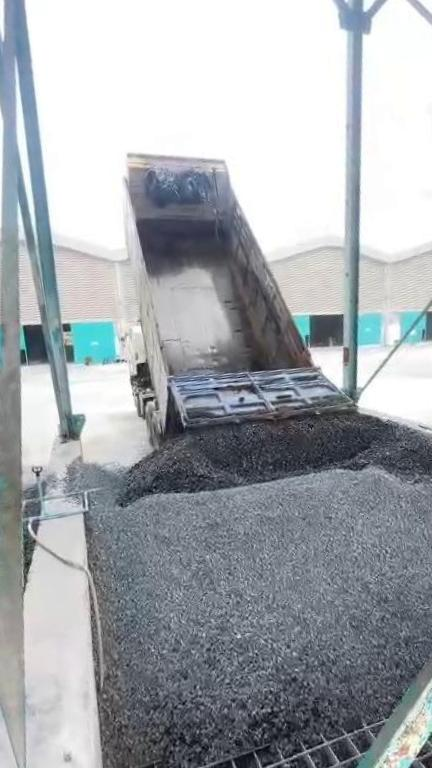gravel: (60, 412, 432, 768), (228, 264, 268, 370), (23, 521, 36, 597)
